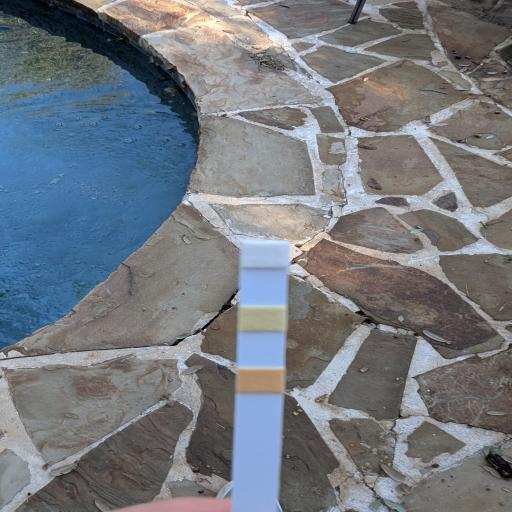strip: (229, 241, 292, 512)
